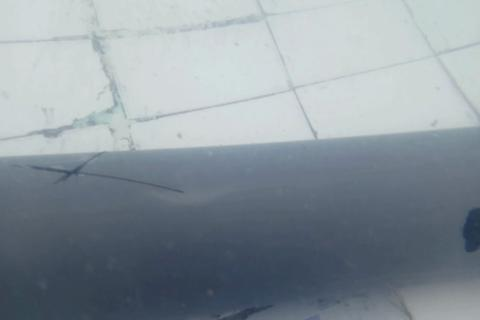kebocoran: (459, 203, 480, 255)
keretakan: (8, 151, 183, 198)
